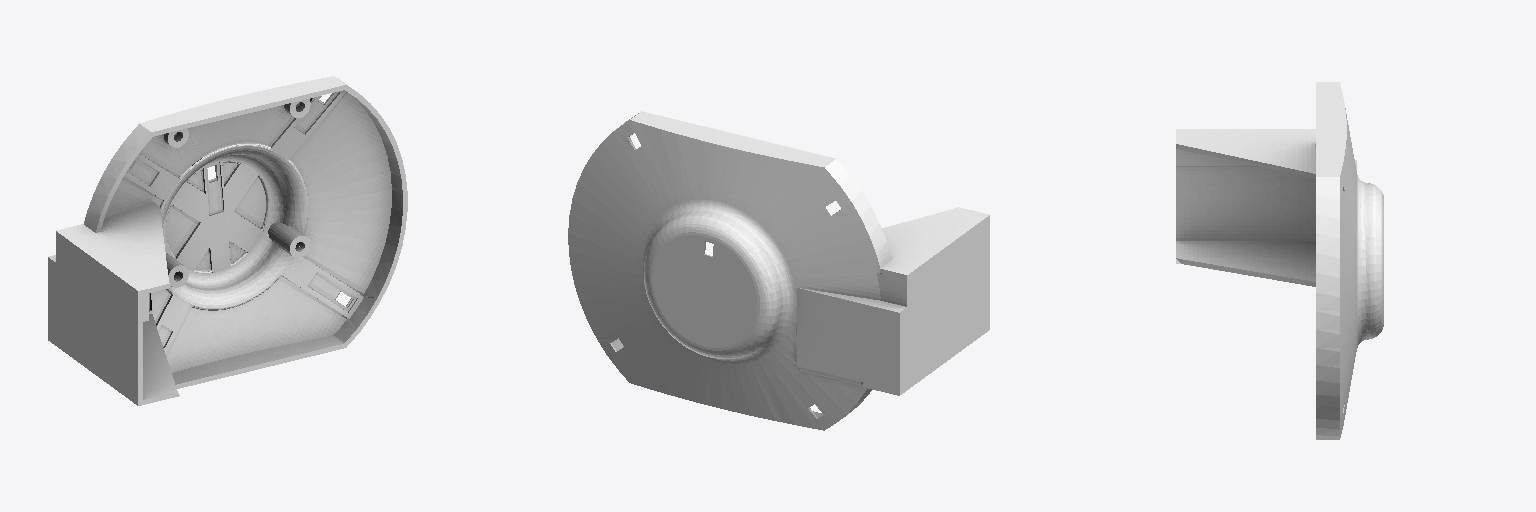
3 renders of one model, left to right at view 1: azimuth 30°, elevation 25°; view 2: azimuth 150°, elevation 25°; view 3: azimuth 270°, elevation 25°, orthographic.
Parts seen in each view (by area): view 1: Dome2_V7_Sensor; view 2: Dome2_V7_Sensor; view 3: Dome2_V7_Sensor.
Part boxes in pixels (bbox=[...]): Dome2_V7_Sensor: bbox=[48, 76, 407, 405]; Dome2_V7_Sensor: bbox=[568, 111, 989, 430]; Dome2_V7_Sensor: bbox=[1176, 82, 1383, 439].
Size of the model in its own units: 0.1452 by 0.1075 by 0.0773.
Materials: 1 (1 with a texture image).